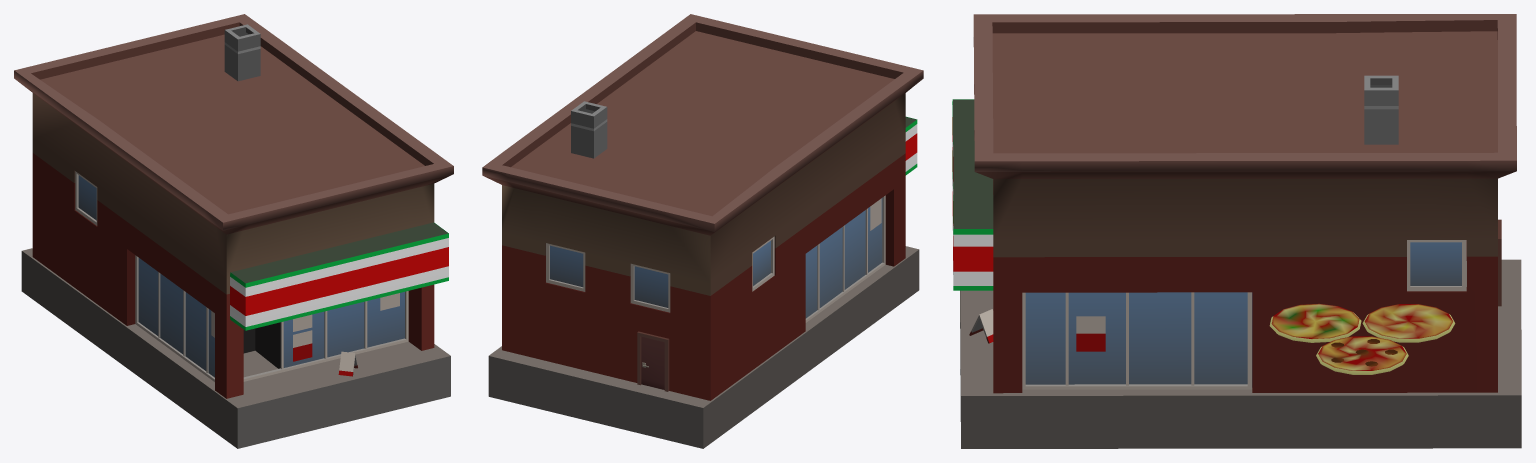
The model's file is buildings-business-pizzarestaurant_v1.glb.
The picture shows the model from 3 angles, left to right: view 1: azimuth 30°, elevation 25°; view 2: azimuth 150°, elevation 25°; view 3: azimuth 270°, elevation 25°; orthographic projection. The views are drawn at different scales.
Visible parts, largest first — view 1: PizzaRestaurant_base, PizzaRestaurant_light, PizzaRestaurant_windowRefl; view 2: PizzaRestaurant_base, PizzaRestaurant_windowRefl, PizzaRestaurant_light; view 3: PizzaRestaurant_base, PizzaRestaurant_windowRefl, PizzaRestaurant_light.
Boxes of the visible parts, x1=… form: PizzaRestaurant_base: x1=14, y1=14, x2=453, y2=448; PizzaRestaurant_light: x1=230, y1=222, x2=448, y2=330; PizzaRestaurant_windowRefl: x1=78, y1=175, x2=404, y2=377; PizzaRestaurant_base: x1=482, y1=14, x2=923, y2=448; PizzaRestaurant_windowRefl: x1=550, y1=198, x2=882, y2=318; PizzaRestaurant_light: x1=905, y1=116, x2=917, y2=175; PizzaRestaurant_base: x1=953, y1=14, x2=1521, y2=448; PizzaRestaurant_windowRefl: x1=1025, y1=242, x2=1461, y2=387; PizzaRestaurant_light: x1=952, y1=99, x2=1455, y2=374.
Bounding box in the file's own units: 11.73 × 12.48 × 19.16.
